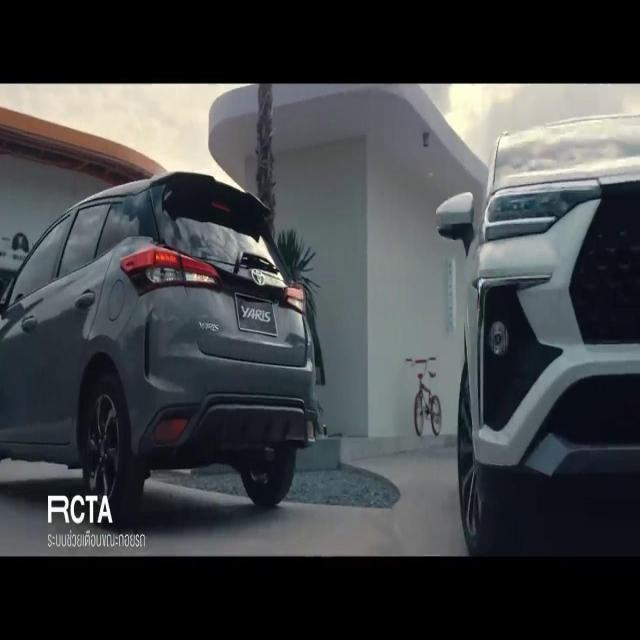Hatchback: (0, 172, 320, 524)
